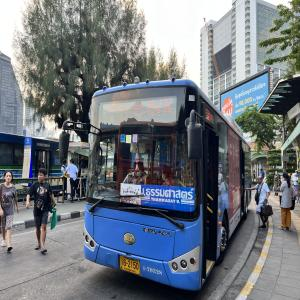BMTA-bus: (82, 79, 247, 293)
Bus Line Number: (146, 96, 175, 122)
Bus Side Number: (140, 260, 167, 280)
Destination Sign: (137, 182, 195, 216)
